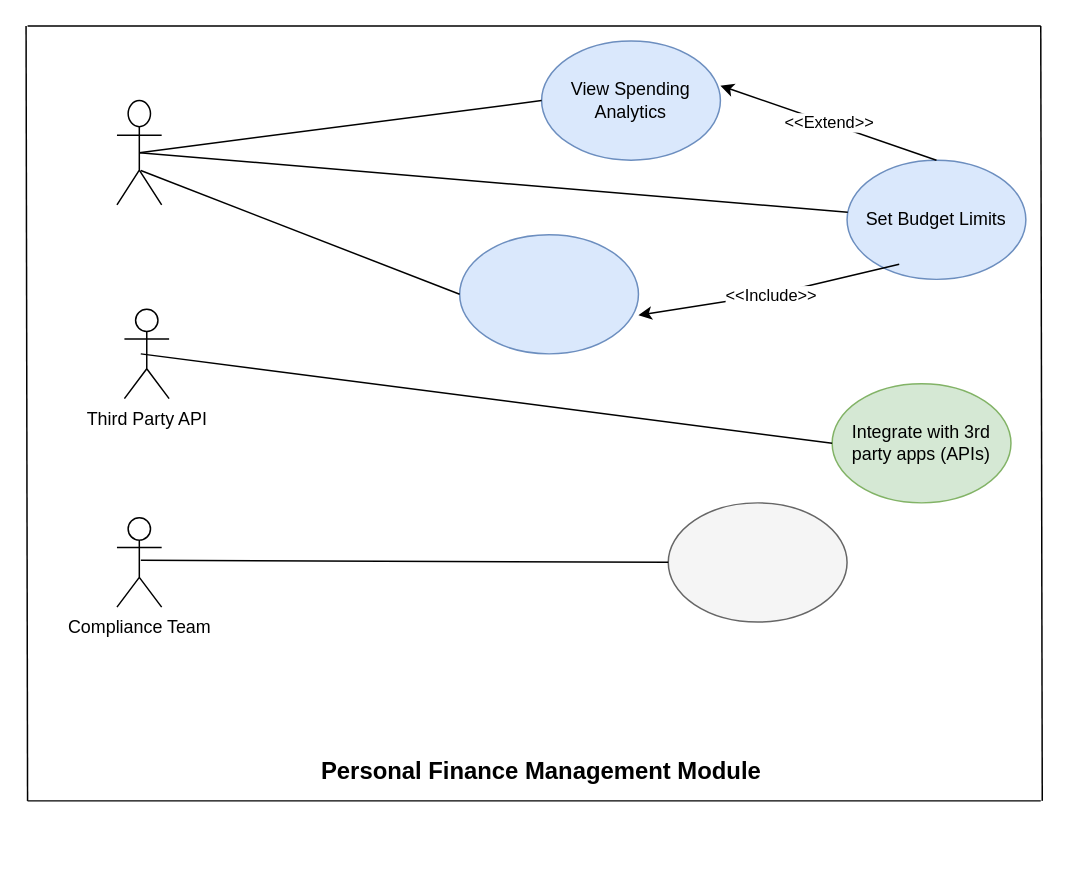
Image size: 1070x869. Some labels were removed from this diagram. Here are the shapes that lost their labels. From the top down, the centre of each, then its label:
(x=138, y=152): End User (Primary)
(x=548, y=293): Receive Budget Notifications
(x=757, y=561): Ensure Data Security Compliance
